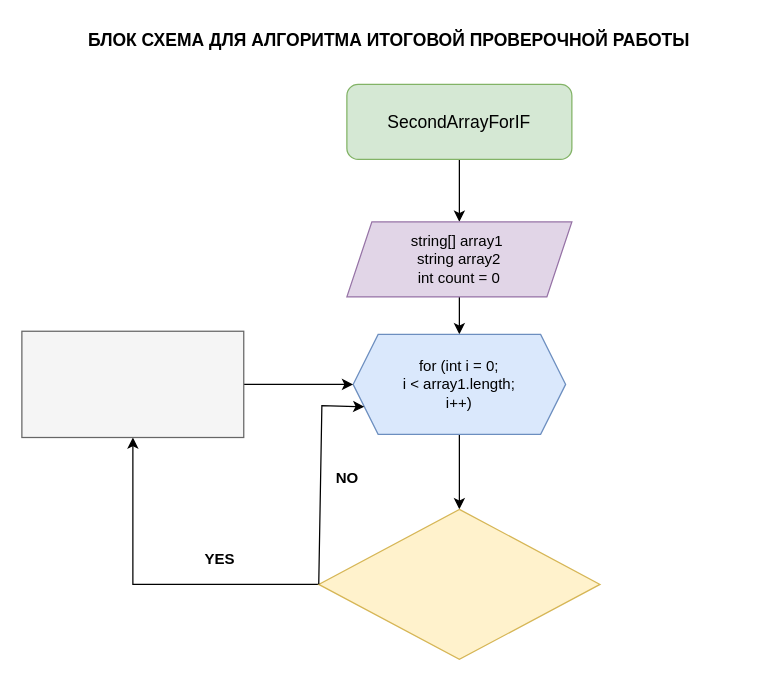
Image size: 768x681. Some labels were removed from this diagram. The centre of each missing label's shape, as x and y in pixels:
"array2[count] = array1[i] count++;" belongs at point (132, 384).
"if (array1[i].length <= 3)" belongs at point (459, 583).
